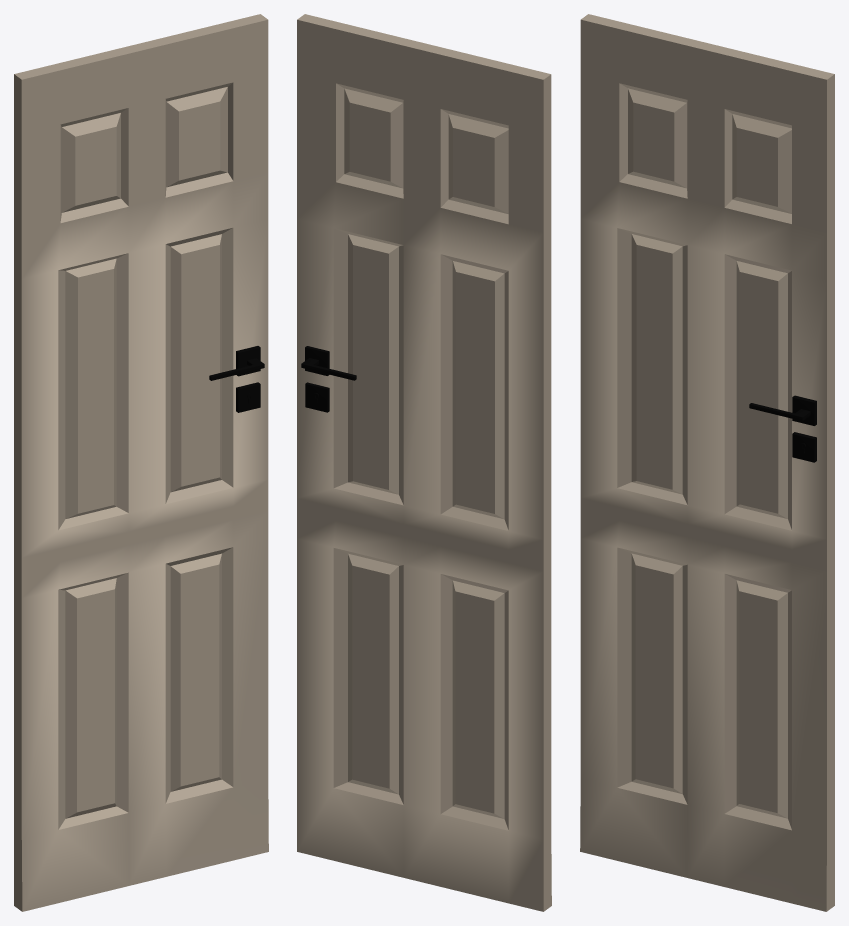
The model's file is SC_4_3b_door.glb.
3 renders of one model, left to right at view 1: azimuth 30°, elevation 25°; view 2: azimuth 150°, elevation 25°; view 3: azimuth 330°, elevation 25°, orthographic.
Visible parts, largest first — view 1: SC_4__3b_door_; view 2: SC_4__3b_door_; view 3: SC_4__3b_door_.
Boxes of the visible parts, bbox=[...] form: SC_4__3b_door_: bbox=[14, 14, 268, 911]; SC_4__3b_door_: bbox=[297, 14, 551, 911]; SC_4__3b_door_: bbox=[580, 14, 834, 911].
Size of the model in its own units: 0.5514 by 1.78 by 0.1089.
1 material, 1 textured.
